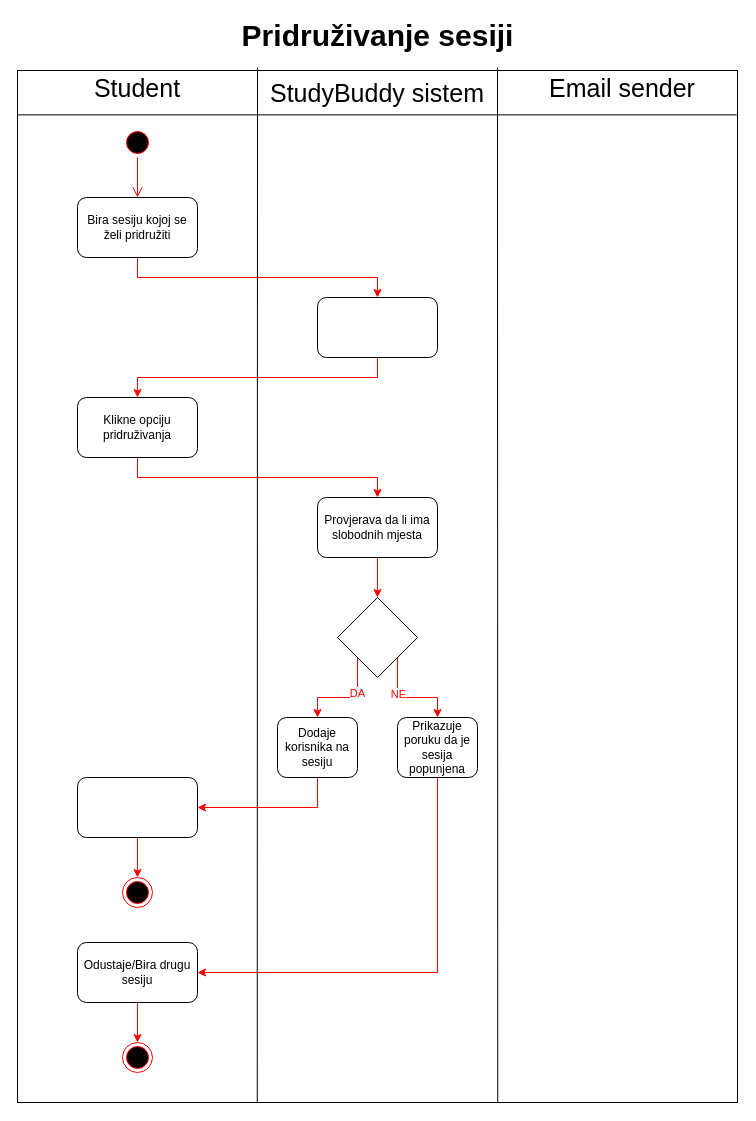
This 756x1121 diagram has some shape labels left out. The shapes that lost their labels are listed below. From the top down, each one's box as (x1, y1, x2, y2) in pixels, then its label:
(316, 296, 438, 358): Prikazuje detalje sesije
(336, 596, 418, 678): Ima li slobodnih mjesta?
(76, 776, 198, 838): Dobija potvrdu o uspješnoj prijavi
